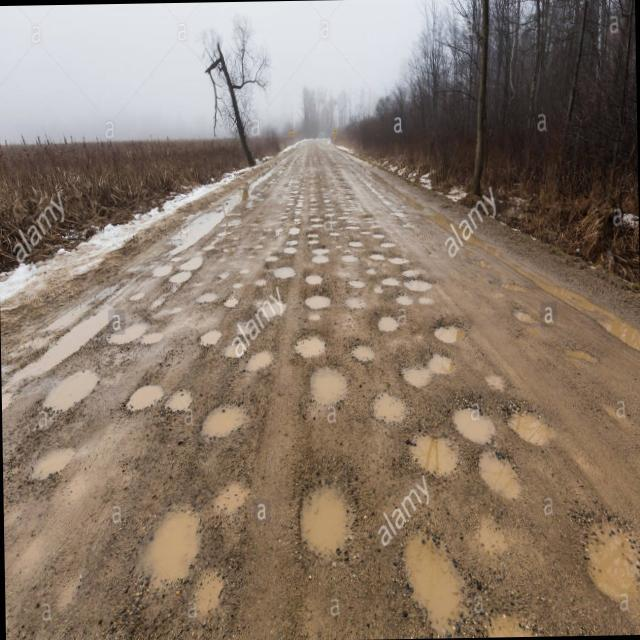Pothole: (388, 513, 480, 639), (125, 476, 211, 590), (290, 463, 366, 566), (578, 501, 640, 610), (400, 414, 464, 490), (498, 390, 573, 454), (40, 350, 105, 420), (192, 392, 255, 457), (446, 390, 504, 455), (474, 444, 528, 509), (26, 432, 84, 490), (191, 554, 233, 634), (398, 344, 458, 399), (298, 353, 354, 411), (477, 590, 538, 638), (206, 465, 254, 522), (118, 372, 170, 422), (364, 382, 411, 434), (431, 308, 471, 354), (105, 310, 151, 345), (241, 342, 284, 378), (291, 326, 331, 364), (165, 380, 202, 420), (480, 353, 512, 398), (258, 295, 290, 325), (404, 268, 436, 298), (196, 322, 223, 353), (178, 246, 208, 273), (348, 341, 377, 368), (304, 288, 334, 314), (140, 328, 166, 354), (341, 288, 367, 314), (125, 278, 146, 310), (376, 310, 399, 339), (224, 335, 244, 368), (150, 286, 168, 322), (393, 288, 418, 312), (272, 259, 298, 282), (151, 254, 173, 280), (212, 260, 232, 288), (348, 271, 370, 296), (167, 266, 194, 286), (303, 269, 327, 290), (368, 246, 388, 270), (387, 250, 408, 272), (309, 245, 331, 266), (344, 230, 365, 252), (198, 287, 218, 310), (382, 267, 400, 290), (222, 288, 239, 312), (340, 248, 360, 268), (236, 264, 252, 283), (288, 220, 301, 240), (230, 276, 244, 294), (280, 244, 299, 257), (254, 275, 268, 292), (372, 228, 387, 240), (286, 234, 298, 247)
